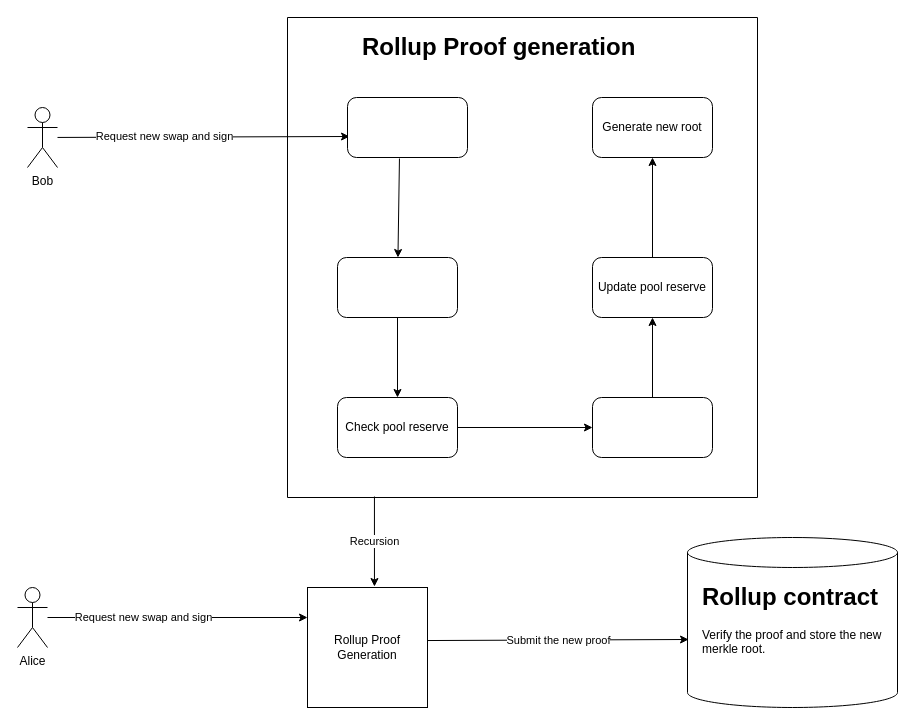
Some shapes in this 915 by 725 pixel diagram are drawn without their labels. Each missing label, with the centre of its shape:
"Check actual balance" belongs at (x=397, y=287).
"Check signature" belongs at (x=407, y=127).
"Update user balance" belongs at (x=652, y=427).
